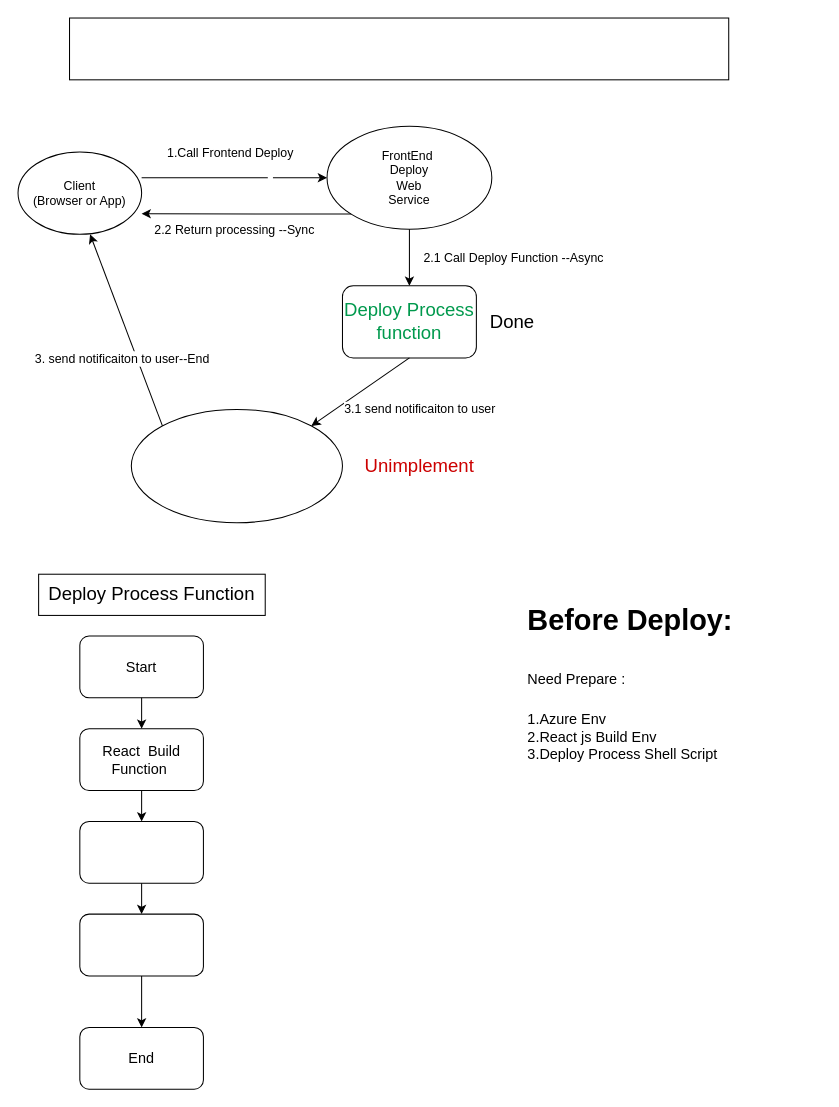
Image size: 839x1107. Some labels were removed from this diagram. Each missing label, with the box of its shape:
Create VM Funtion: (79, 820, 203, 883)
Deploy to VM Function: (79, 913, 203, 976)
DMSB FrontEnd Deploy Http Api Backend Flow: (68, 17, 729, 80)
Message Queue Notification System: (130, 408, 342, 523)
